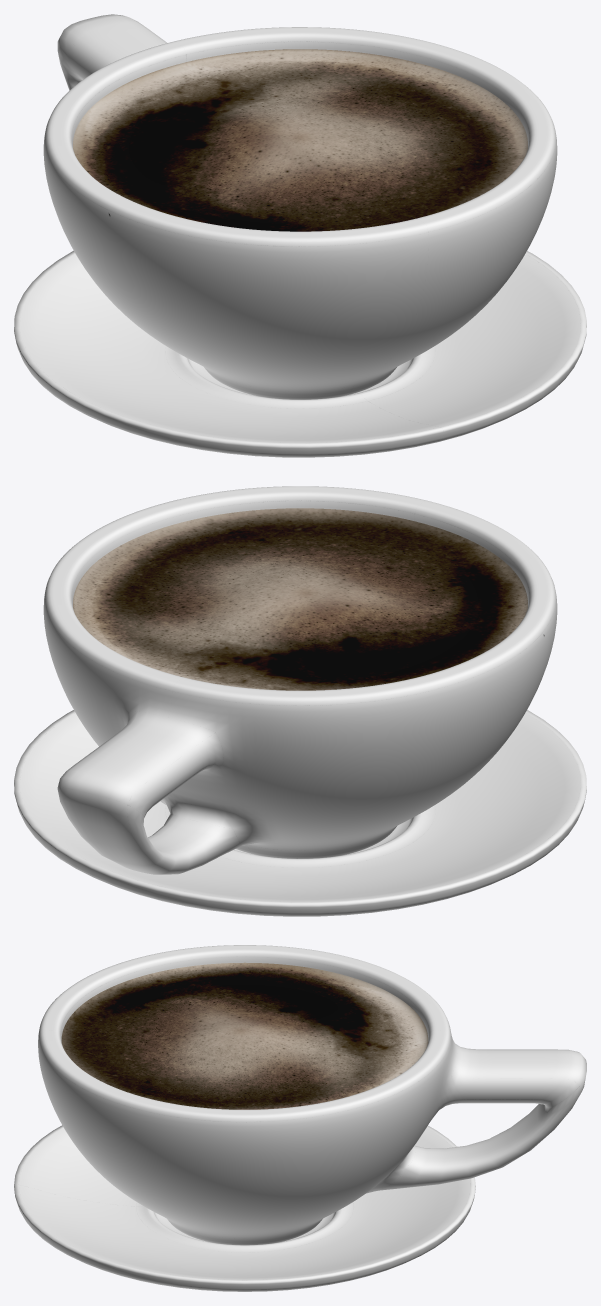
Rendered from cup_of_coffee.glb.
The picture shows the model from 3 angles, top to bottom: view 1: azimuth 30°, elevation 25°; view 2: azimuth 150°, elevation 25°; view 3: azimuth 270°, elevation 25°; orthographic projection. The views are drawn at different scales.
Parts seen in each view (by area): view 1: Hrnek.001_0, Coffee.001_1, Podsalek.001_2; view 2: Hrnek.001_0, Coffee.001_1, Podsalek.001_2; view 3: Hrnek.001_0, Coffee.001_1, Podsalek.001_2.
Boxes of the visible parts, <box> form: Hrnek.001_0: <box>43,14,557,399</box>; Coffee.001_1: <box>73,49,527,231</box>; Podsalek.001_2: <box>14,250,586,457</box>; Hrnek.001_0: <box>43,486,557,874</box>; Coffee.001_1: <box>73,508,527,690</box>; Podsalek.001_2: <box>14,710,586,916</box>; Hrnek.001_0: <box>38,945,586,1245</box>; Coffee.001_1: <box>61,962,428,1109</box>; Podsalek.001_2: <box>14,1125,475,1291</box>.
Size of the model in its own units: 2.17 by 1.05 by 2.69.
3 materials, 3 textured.
